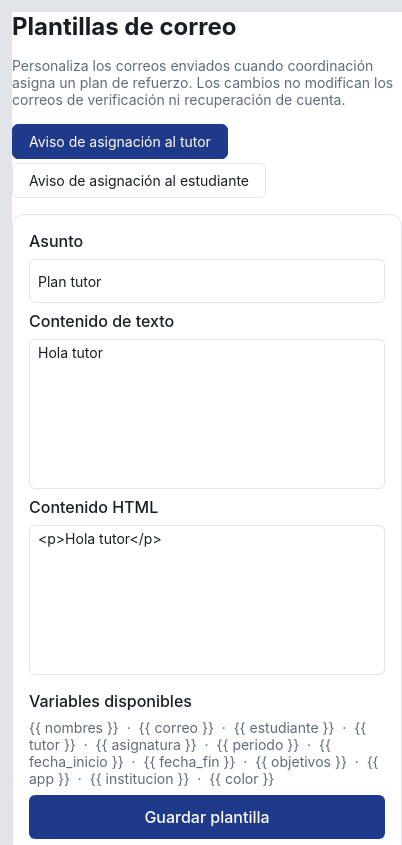
Test: si el servidor rechaza el guardado muestra el error
The width and height of the screenshot is (402, 845).
Expected: the field showing "Plan tutor" is shown, [29,259,385,303]
Click the button "Guardar plantilla" at [207, 817], box [29,795,385,839]
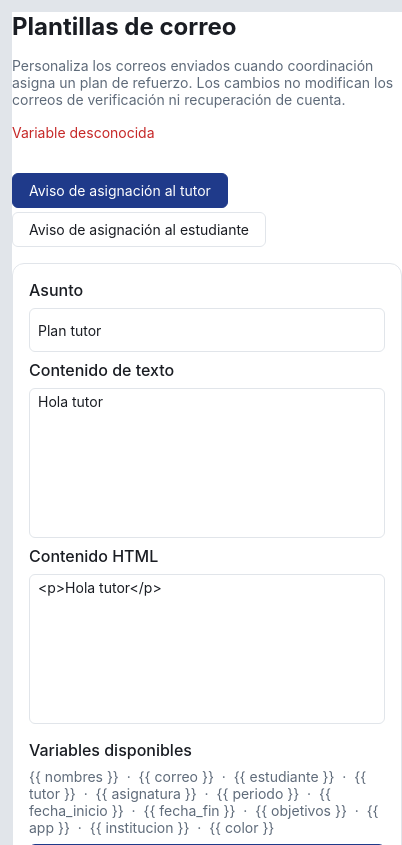
Expected: the text "Variable desconocida" is shown, [12,124,154,141]
